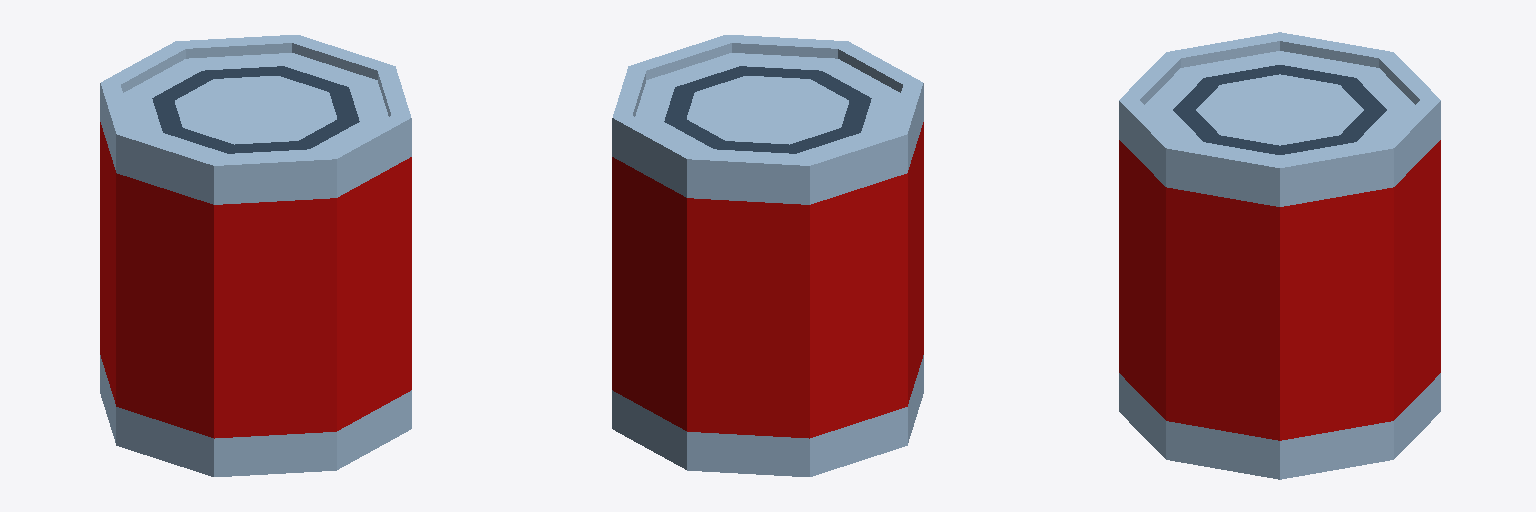
The model's file is can.obj.
3 renders of one model, left to right at view 1: azimuth 30°, elevation 25°; view 2: azimuth 150°, elevation 25°; view 3: azimuth 270°, elevation 25°, orthographic.
Parts seen in each view (by area): view 1: can; view 2: can; view 3: can.
Boxes of the visible parts, <box> form: can: <box>100,35,411,476</box>; can: <box>612,35,923,476</box>; can: <box>1119,32,1440,479</box>.
Size of the model in its own units: 36 by 38.4 by 36.